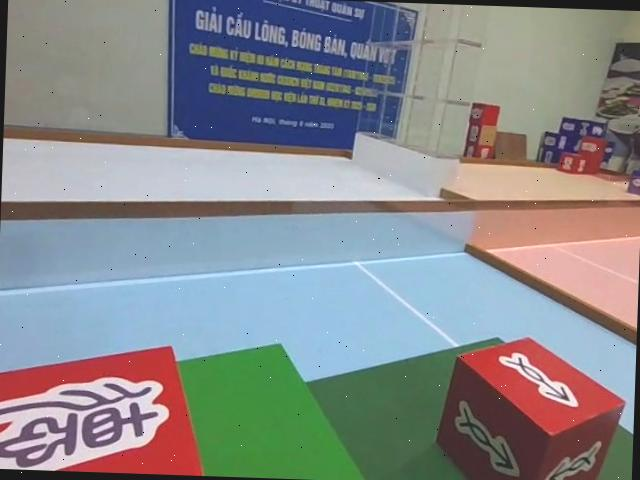R2 Fake: (0, 338, 211, 476)
R2 Real: (436, 332, 627, 480)
